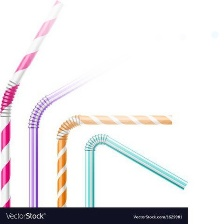drinking_straw: (24, 46, 135, 208), (0, 0, 66, 209), (51, 110, 177, 208), (81, 130, 191, 208)
